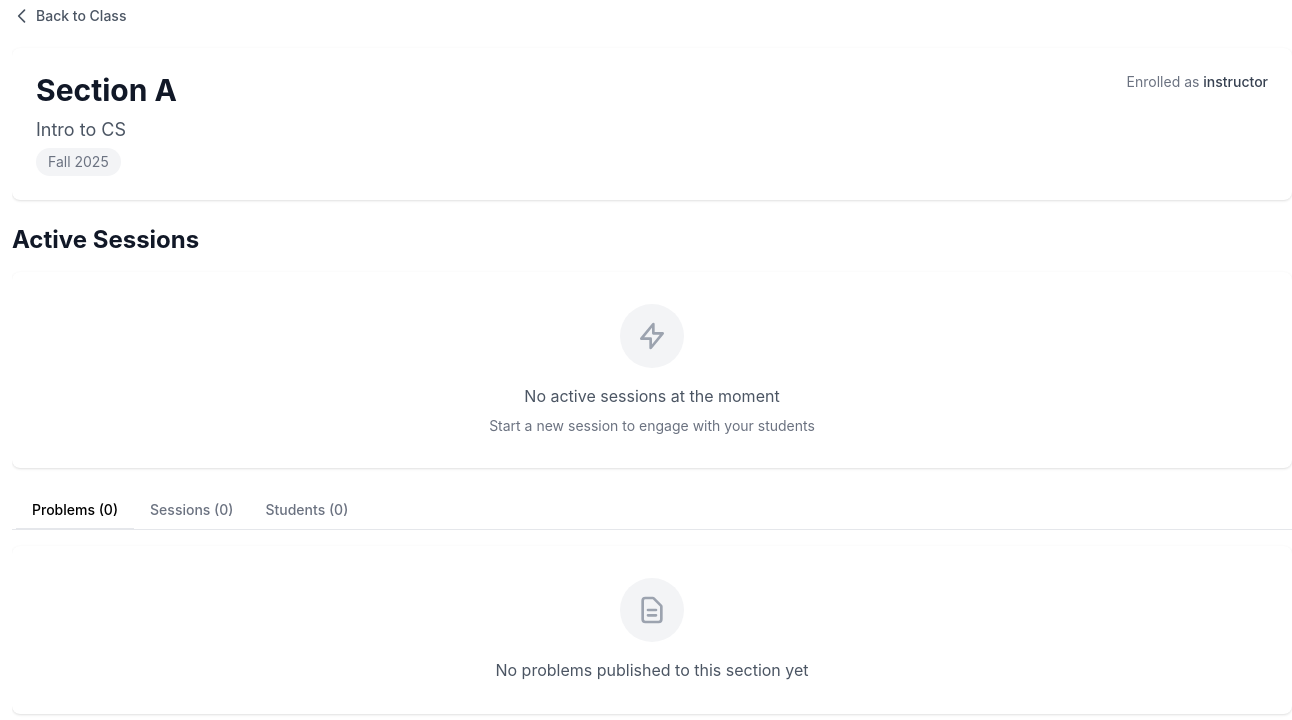
Test: InstructorSectionView › students › shows empty state when no students enrolled
Click the tab "Students (0)" at (307,511), box [250,492,364,530]
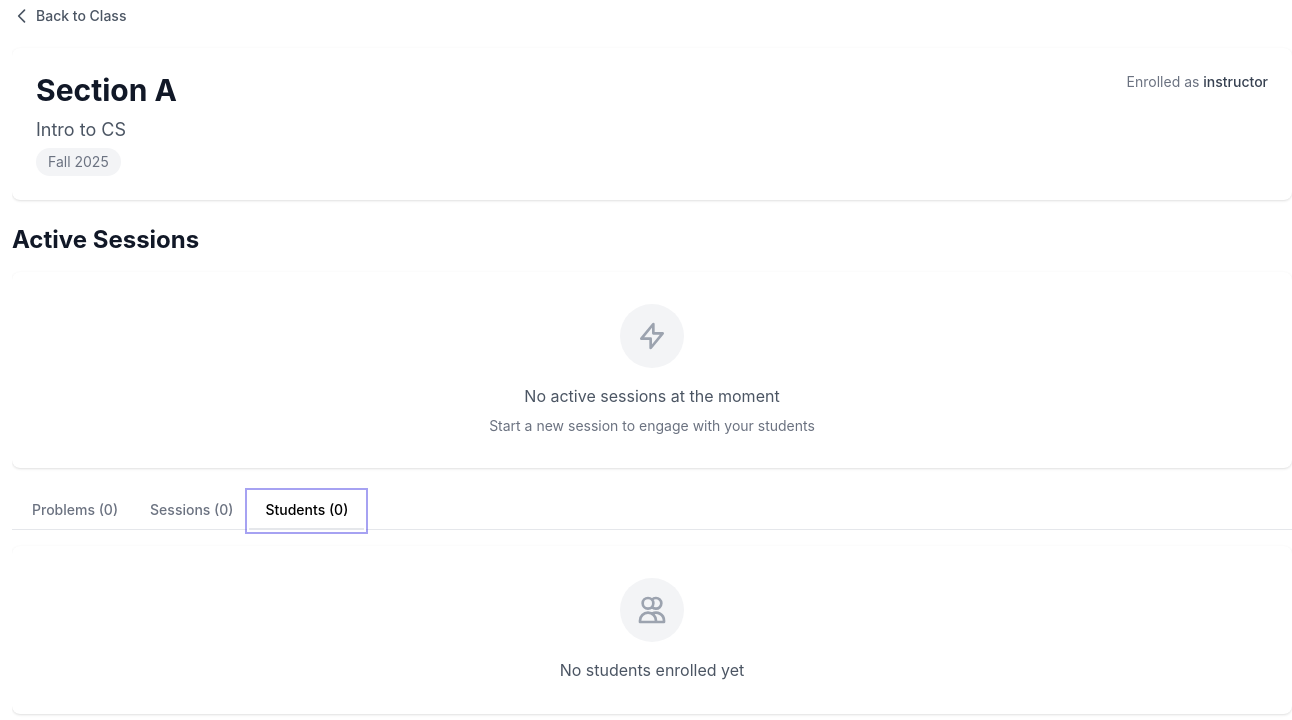
Expected: the text "No students enrolled yet" is shown, [560,660,744,680]
